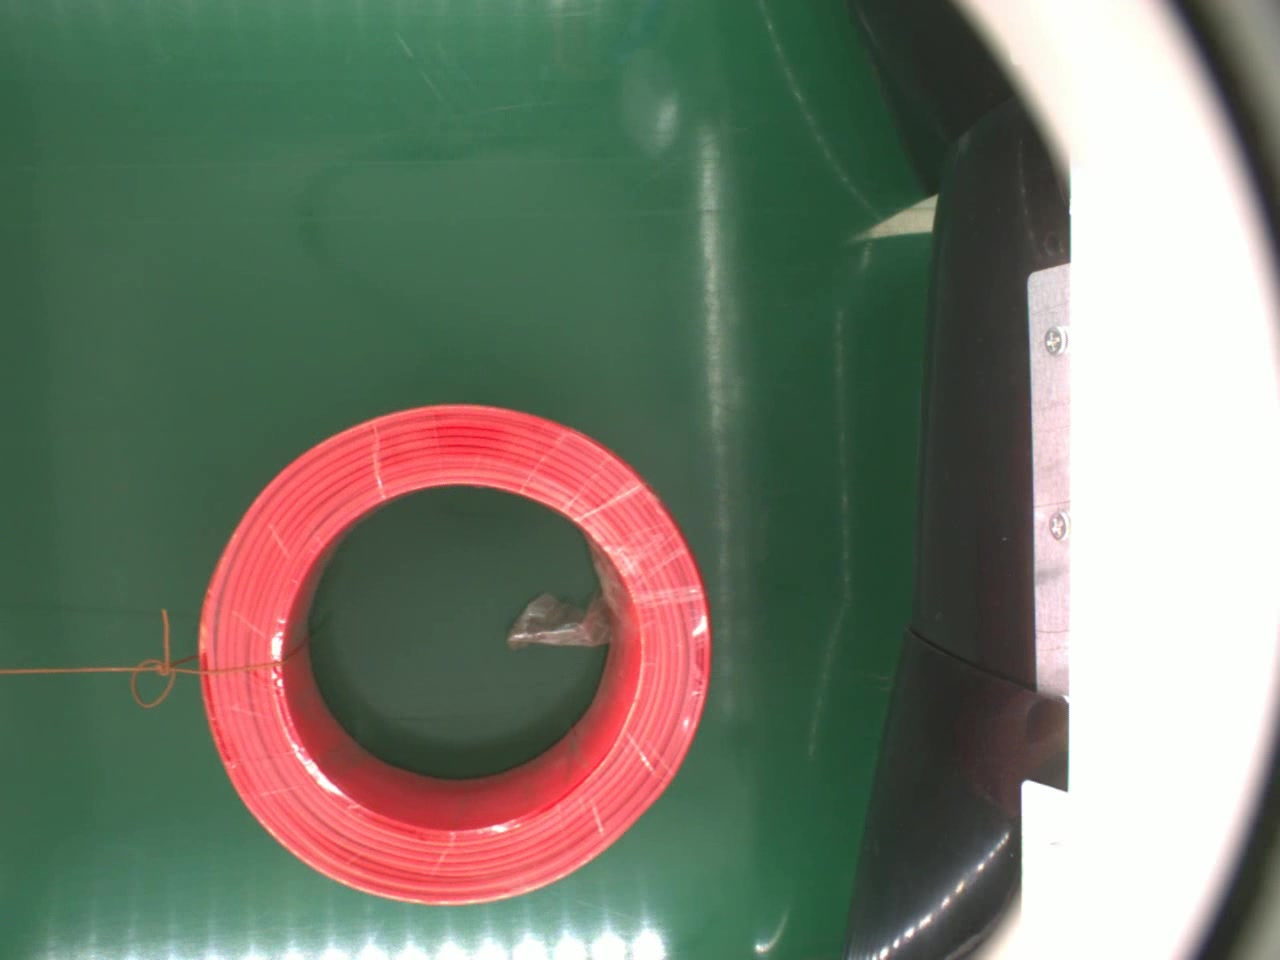red: (198, 396, 716, 906)
